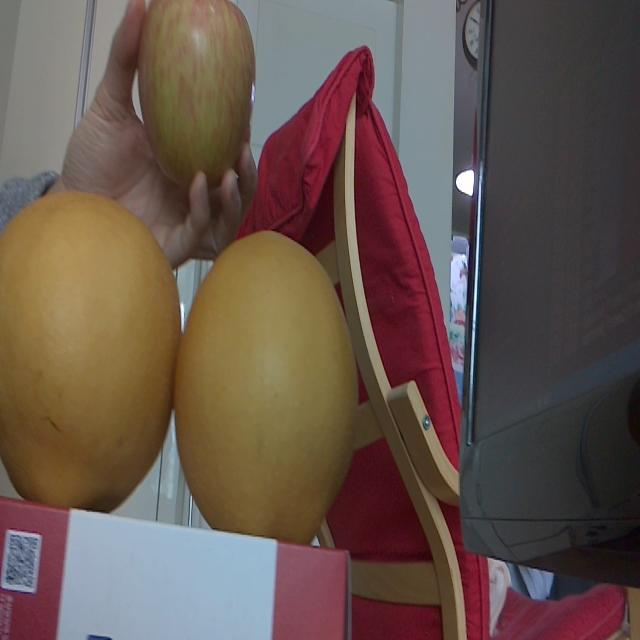apple: (137, 0, 257, 189)
pear: (0, 188, 181, 500), (175, 231, 360, 529)
